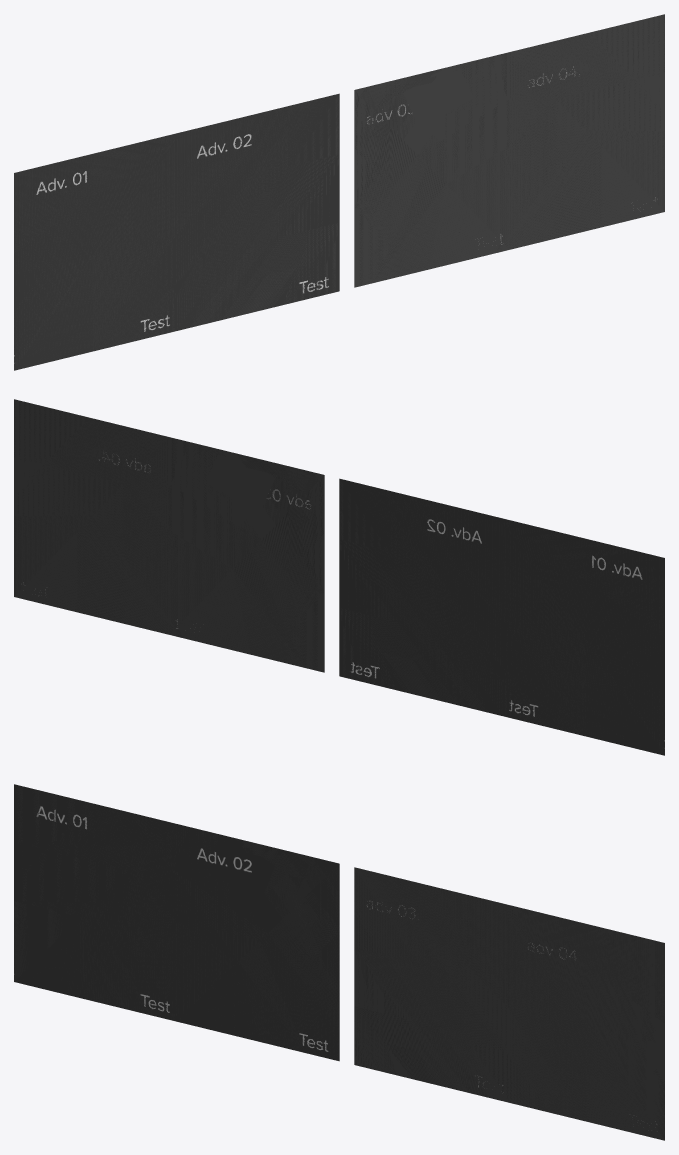
The model's file is glass.dae.
3 views of the same model, one above another, from view 1: azimuth 30°, elevation 25°; view 2: azimuth 150°, elevation 25°; view 3: azimuth 330°, elevation 25° (orthographic).
Visible parts, largest first — view 1: SketchUp (×4); view 2: SketchUp (×4); view 3: SketchUp (×4).
Part boxes in pixels (bbox=[...]): SketchUp (×4): bbox=[14, 14, 664, 370]; SketchUp (×4): bbox=[14, 399, 664, 755]; SketchUp (×4): bbox=[14, 784, 664, 1140].
Size of the model in its own units: 171 by 0 by 49.72.
5 materials, 5 textured.
